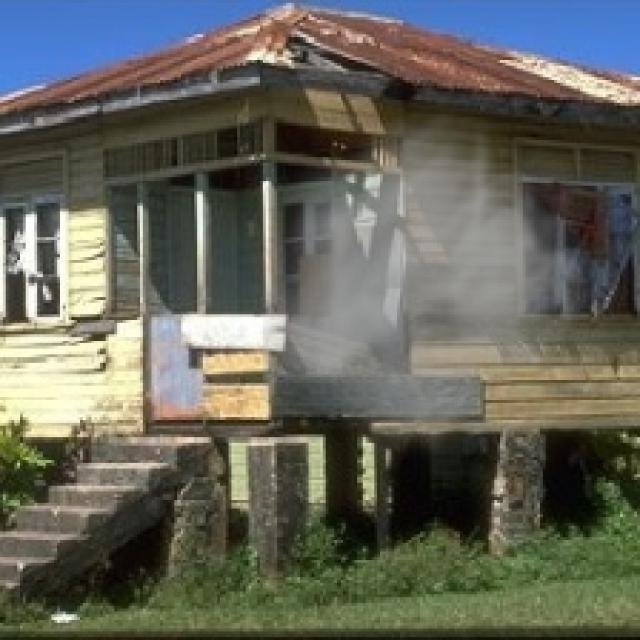Smoke: (263, 97, 623, 466)
